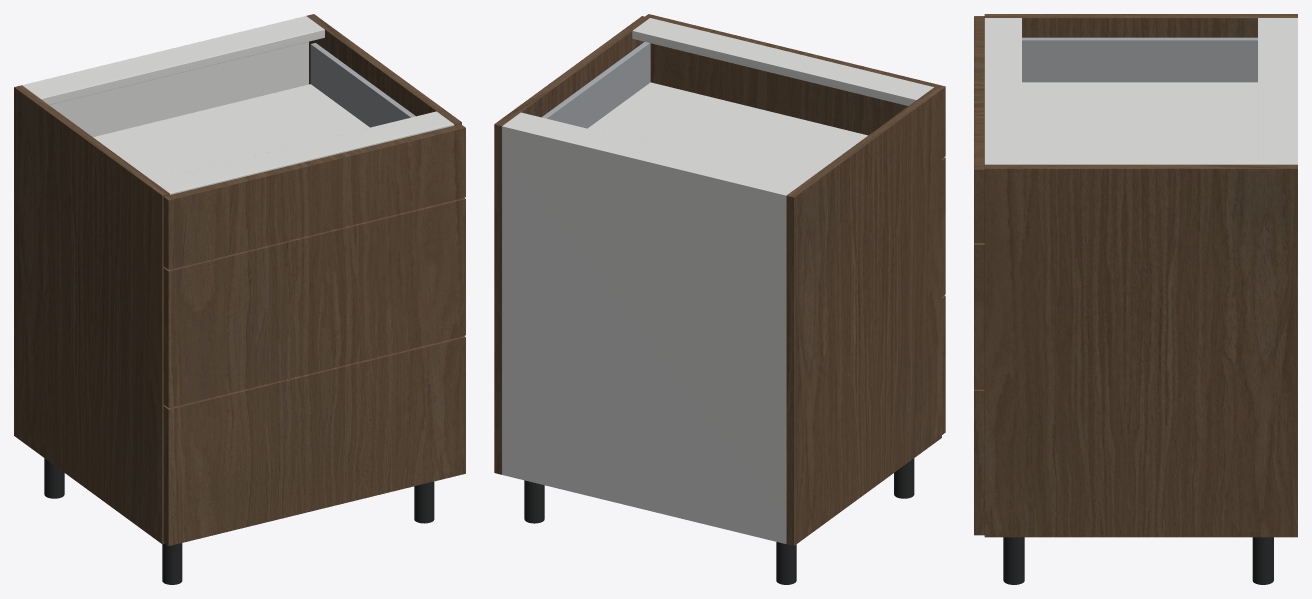
File: oppein-pb-mso-3db27.glb
The picture shows the model from 3 angles, left to right: view 1: azimuth 30°, elevation 25°; view 2: azimuth 150°, elevation 25°; view 3: azimuth 270°, elevation 25°; orthographic projection. The views are drawn at different scales.
Parts seen in each view (by area): view 1: Cabinet side, Drawer front, Drawer front.001, Drawer front.002, Drawer floor.002, Cabinet back, Top support rail, Top support rail.001, Drawer side.005, Cabinet side.001, Adjustable foot.001, Adjustable foot.003 (+1 smaller); view 2: Cabinet back, Cabinet side, Drawer floor.002, Drawer front.002, Top support rail.001, Cabinet side.001, Top support rail, Drawer side.005, Adjustable foot, Adjustable foot.002, Adjustable foot.001; view 3: Cabinet side.001, Drawer floor.002, Drawer side.004, Cabinet side, Top support rail.001, Top support rail, Drawer front.002, Drawer front, Drawer front.001, Adjustable foot.003, Adjustable foot.002, Cabinet back.
Part boxes in pixels (x1=…): Cabinet side: x1=14, y1=85, x2=169, y2=544; Drawer front: x1=163, y1=336, x2=465, y2=546; Drawer front.001: x1=163, y1=198, x2=465, y2=407; Drawer front.002: x1=163, y1=124, x2=465, y2=269; Drawer floor.002: x1=93, y1=84, x2=369, y2=180; Cabinet back: x1=22, y1=16, x2=308, y2=136; Top support rail: x1=24, y1=18, x2=324, y2=104; Top support rail.001: x1=153, y1=111, x2=454, y2=194; Drawer side.005: x1=310, y1=43, x2=415, y2=127; Cabinet side.001: x1=306, y1=14, x2=461, y2=125; Adjustable foot.001: x1=162, y1=543, x2=182, y2=584; Adjustable foot.003: x1=414, y1=481, x2=434, y2=523; Cabinet back: x1=502, y1=124, x2=788, y2=543; Cabinet side: x1=786, y1=87, x2=941, y2=545; Drawer floor.002: x1=588, y1=82, x2=867, y2=181; Drawer front.002: x1=645, y1=14, x2=945, y2=158; Top support rail.001: x1=632, y1=18, x2=933, y2=105; Cabinet side.001: x1=494, y1=16, x2=649, y2=474; Top support rail: x1=505, y1=112, x2=804, y2=193; Drawer side.005: x1=541, y1=42, x2=650, y2=128; Adjustable foot: x1=776, y1=542, x2=796, y2=584; Adjustable foot.002: x1=524, y1=480, x2=544, y2=523; Adjustable foot.001: x1=894, y1=458, x2=914, y2=498; Cabinet side.001: x1=984, y1=164, x2=1297, y2=537; Drawer floor.002: x1=1022, y1=82, x2=1257, y2=164; Drawer side.004: x1=1022, y1=37, x2=1257, y2=82; Cabinet side: x1=984, y1=14, x2=1297, y2=37; Top support rail.001: x1=984, y1=18, x2=1021, y2=164; Top support rail: x1=1258, y1=18, x2=1291, y2=164; Drawer front.002: x1=974, y1=16, x2=984, y2=242; Drawer front: x1=974, y1=389, x2=984, y2=535; Drawer front.001: x1=974, y1=243, x2=984, y2=389; Adjustable foot.003: x1=1003, y1=537, x2=1024, y2=584; Adjustable foot.002: x1=1252, y1=537, x2=1273, y2=584; Cabinet back: x1=1292, y1=18, x2=1297, y2=164.
Bounding box in the file's own units: 0.6858 × 0.8763 × 0.6064.
Materials: 4 (1 with a texture image).
